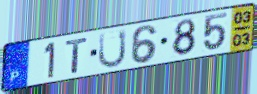1: (43, 41, 56, 80)
5: (203, 11, 230, 52)
6: (129, 24, 159, 65)
8: (170, 18, 197, 58)
T: (65, 35, 90, 75)
U: (96, 28, 128, 70)
